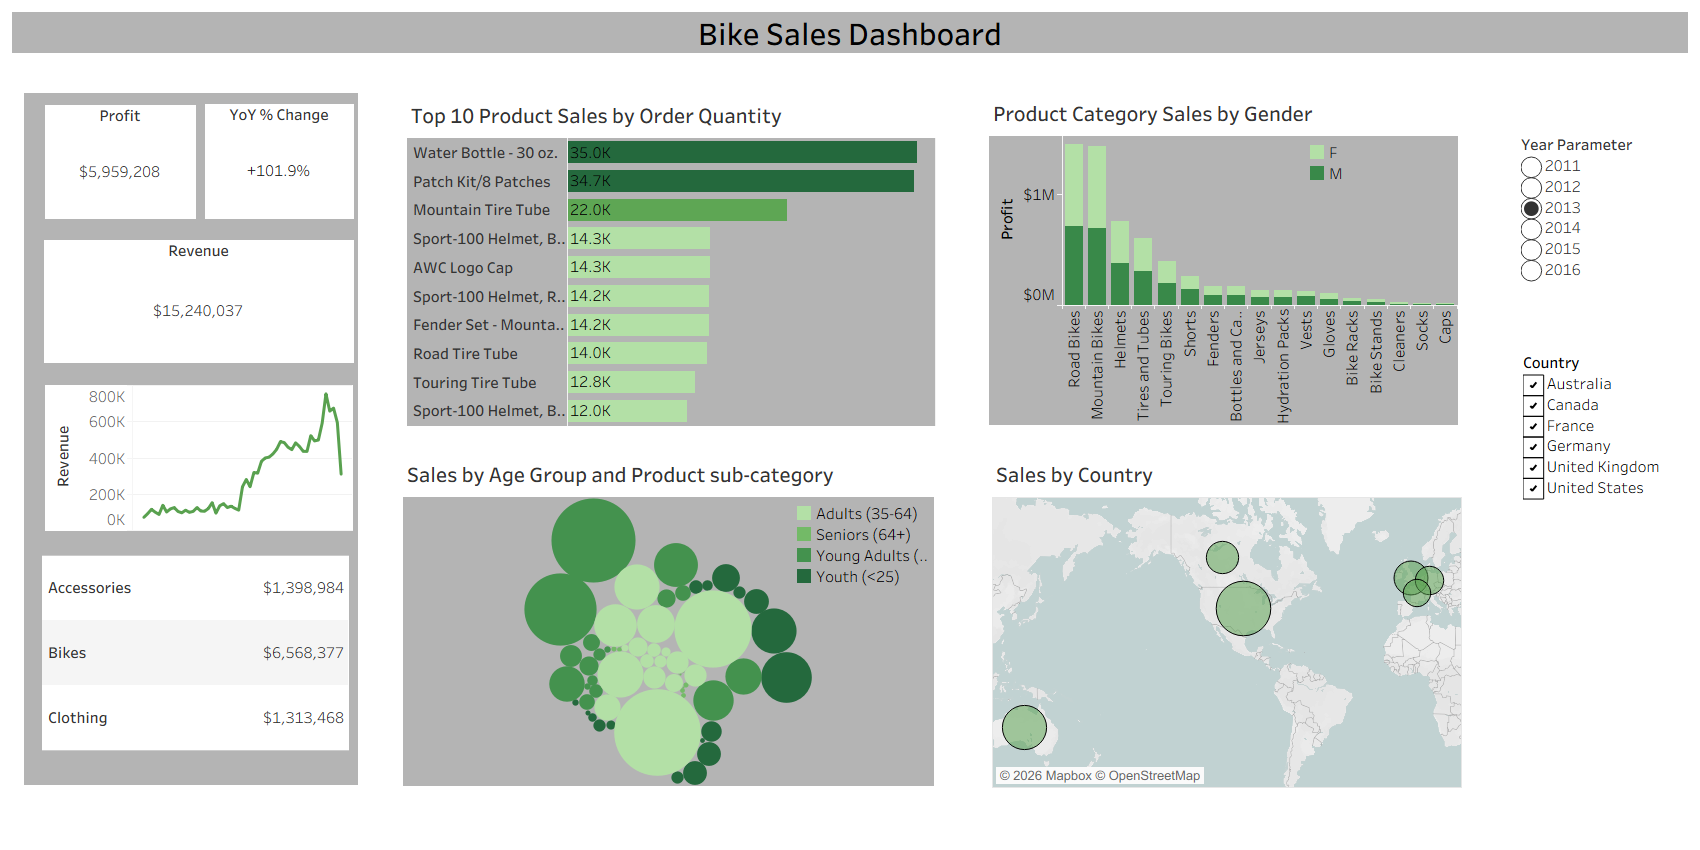

The page's visual inventory and layout, read from the dashboard file:
{"tool":"tableau","page":{"name":"Sales Dashboard","canvas":[1700,850],"ordinal":0},"visuals":[{"type":"title","box":[8,8,1684,49]},{"type":"blank","box":[8,57,1684,785]},{"type":"worksheet","title":"Sub Category Bar chart","mark":"Automatic","rows":["Profit"],"cols":["Sub_Category"],"box":[989,92.9,467.8,331.6]},{"type":"worksheet","title":"Top 10 Products","mark":"Bar","rows":["Product"],"box":[407.3,94.9,529.4,330.6]},{"type":"worksheet","title":"YearoverYear Percentage","mark":"Automatic","cols":["Calculation_0479946246959112"],"box":[205.2,103.9,147.7,113.9]},{"type":"worksheet","title":"Profit Card","mark":"Automatic","cols":["Calculation_0479946239844354"],"box":[45.1,104.9,149.8,112.9]},{"type":"parameter","param":"[Parameters].[Parameter 1]","box":[1521.5,132.8,151.8,175.8]},{"type":"legend","title":"Sub Category Bar chart","param":"[federated.0gcxl4p1k0d82r18piuag1sufx6g].[none:Customer_Gender:nk]","box":[1307.1,141.8,143.6,63.9]},{"type":"worksheet","title":"Revenue Card","mark":"Automatic","cols":["Calculation_0479946249031689"],"box":[44.1,239.7,308.8,121.9]},{"type":"filter","title":"Age Group Bubble Chart","param":"[federated.0gcxl4p1k0d82r18piuag1sufx6g].[none:Country:nk]","box":[1522.5,350.6,164.2,188.8]},{"type":"worksheet","title":"Revenue Line Chart","mark":"Automatic","rows":["Revenue"],"cols":["Date"],"box":[45.1,384.5,306.8,144.8]},{"type":"worksheet","title":"Age Group Bubble Chart","mark":"Circle","box":[403.2,454.5,530.4,330.6]},{"type":"worksheet","title":"Map","mark":"Automatic","box":[992.1,454.5,469.9,333.6]},{"type":"legend","title":"Age Group Bubble Chart","param":"[federated.0gcxl4p1k0d82r18piuag1sufx6g].[none:Age_Group:nk]","box":[794.1,503.4,135.4,105.9]},{"type":"worksheet","title":"Cost Card","mark":"Automatic","rows":["Product_Category"],"box":[42.1,555.3,306.8,195.8]}]}

Visuals, with their boxes in screenshot pixels (x1, y1, x2, y2), scaled from the page's 1700x850 canvas onto the 1700x850 screenshot:
title: [x1=8, y1=8, x2=1692, y2=57]
blank: [x1=8, y1=57, x2=1692, y2=842]
"Sub Category Bar chart" worksheet: [x1=989, y1=93, x2=1457, y2=424]
"Top 10 Products" worksheet (Bar marks): [x1=407, y1=95, x2=937, y2=426]
"YearoverYear Percentage" worksheet: [x1=205, y1=104, x2=353, y2=218]
"Profit Card" worksheet: [x1=45, y1=105, x2=195, y2=218]
parameter: [x1=1522, y1=133, x2=1673, y2=309]
"Sub Category Bar chart" legend: [x1=1307, y1=142, x2=1451, y2=206]
"Revenue Card" worksheet: [x1=44, y1=240, x2=353, y2=362]
"Age Group Bubble Chart" filter: [x1=1522, y1=351, x2=1687, y2=539]
"Revenue Line Chart" worksheet: [x1=45, y1=384, x2=352, y2=529]
"Age Group Bubble Chart" worksheet (Circle marks): [x1=403, y1=454, x2=934, y2=785]
"Map" worksheet: [x1=992, y1=454, x2=1462, y2=788]
"Age Group Bubble Chart" legend: [x1=794, y1=503, x2=930, y2=609]
"Cost Card" worksheet: [x1=42, y1=555, x2=349, y2=751]
